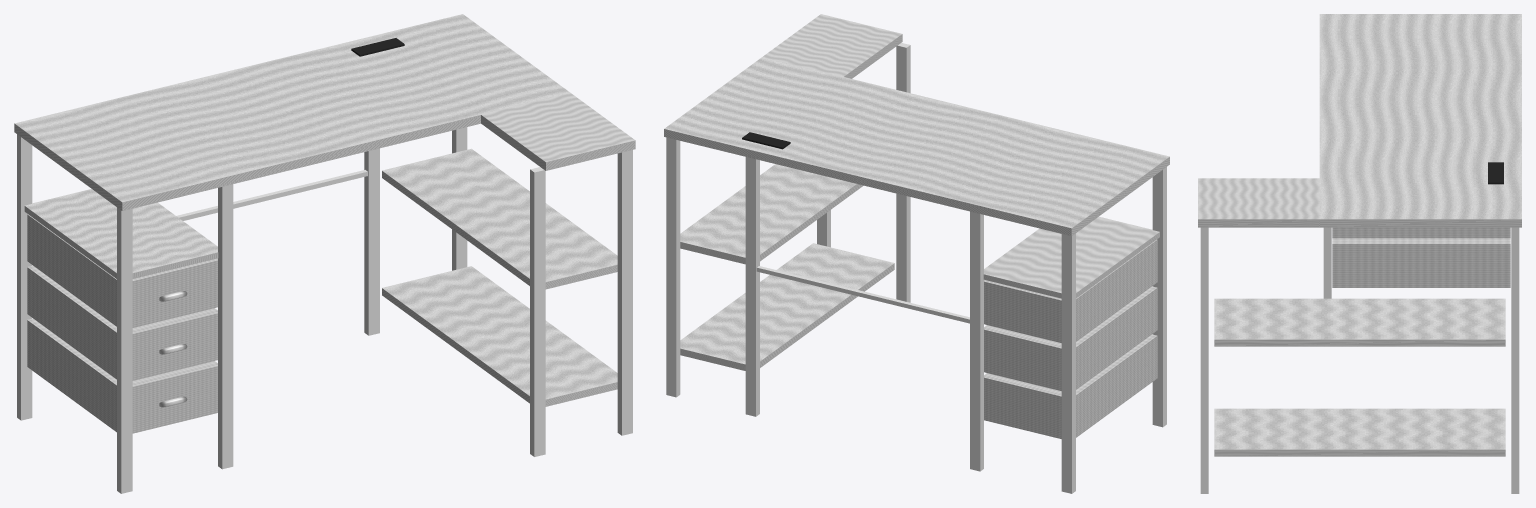
3 views of the same model, side by side, from view 1: azimuth 30°, elevation 25°; view 2: azimuth 150°, elevation 25°; view 3: azimuth 270°, elevation 25° (orthographic). The views are drawn at different scales.
Parts seen in each view (by area): view 1: 1 main_desktop, 12 bottom_shelf, 11 middle_shelf, 7 drawer_3, 6 drawer_2, 4 drawer_top_board, 5 drawer_1, 2 side_desktop, 17 mid_right_front_leg, 13 left_front_leg, 19 right_front_leg, 15 mid_left_front_leg (+4 smaller); view 2: 1 main_desktop, 12 bottom_shelf, 11 middle_shelf, 6 drawer_2, 7 drawer_3, 4 drawer_top_board, 5 drawer_1, 2 side_desktop, 14 left_back_leg, 20 right_back_leg, 18 mid_right_back_leg, 16 mid_left_back_leg (+3 smaller); view 3: 1 main_desktop, 11 middle_shelf, 12 bottom_shelf, 7 drawer_3, 2 side_desktop, 19 right_front_leg, 20 right_back_leg, 6 drawer_2, 15 mid_left_front_leg, 3 power_outlet.
Boxes of the visible parts, x1,y1,x2,y2 form: 1 main_desktop: (14,14,570,210); 12 bottom_shelf: (382,266,617,406); 11 middle_shelf: (382,148,617,289); 7 drawer_3: (27,318,217,433); 6 drawer_2: (27,265,217,380); 4 drawer_top_board: (24,189,218,278); 5 drawer_1: (27,214,217,327); 2 side_desktop: (481,93,635,170); 17 mid_right_front_leg: (530,167,545,456); 13 left_front_leg: (117,207,132,493); 19 right_front_leg: (617,150,632,435); 15 mid_left_front_leg: (218,184,233,469); 1 main_desktop: (664,57,1169,236); 12 bottom_shelf: (680,243,894,370); 11 middle_shelf: (680,164,863,264); 6 drawer_2: (984,286,1157,390); 7 drawer_3: (984,334,1157,438); 4 drawer_top_board: (983,216,1159,298); 5 drawer_1: (984,239,1157,342); 2 side_desktop: (763,14,902,78); 14 left_back_leg: (1061,233,1075,493); 20 right_back_leg: (666,137,680,397); 18 mid_right_back_leg: (745,157,759,416); 16 mid_left_back_leg: (970,211,983,471); 1 main_desktop: (1319,14,1521,227); 11 middle_shelf: (1214,298,1505,346); 12 bottom_shelf: (1214,408,1505,456); 7 drawer_3: (1332,238,1510,287); 2 side_desktop: (1198,178,1319,227); 19 right_front_leg: (1200,227,1208,493); 20 right_back_leg: (1511,227,1519,493); 6 drawer_2: (1332,227,1510,238); 15 mid_left_front_leg: (1323,227,1331,298); 3 power_outlet: (1488,162,1503,184).
Bounding box in the file's own units: 1.59 × 1 × 1.06.
5 materials, 2 textured.
